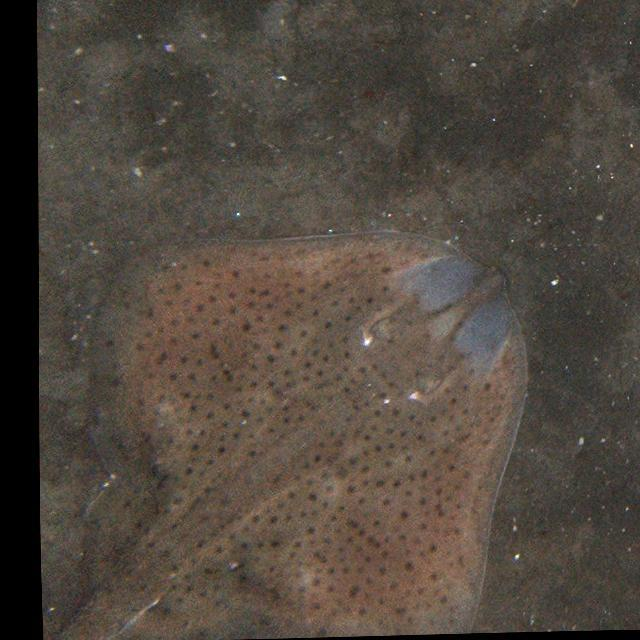skate: (72, 230, 520, 634)
